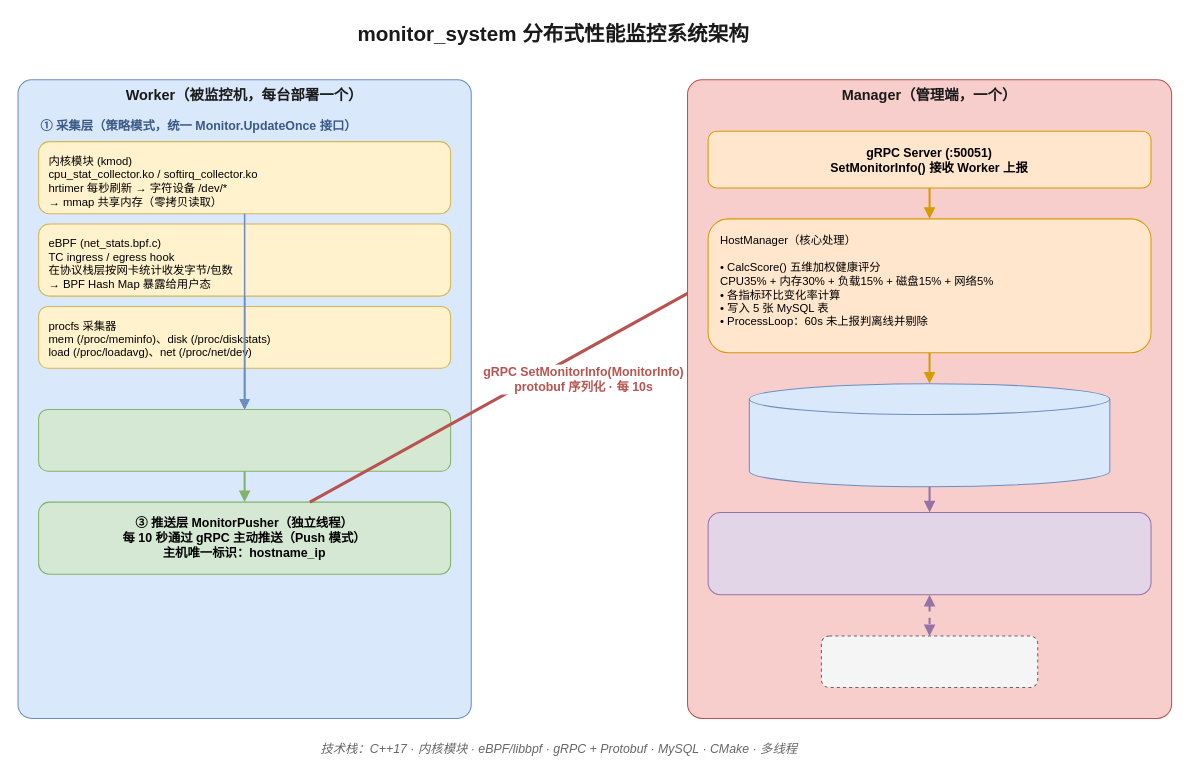
Some shapes in this 1190 by 777 pixel diagram are drawn without their labels. Each missing label, with the centre of its shape:
"MySQL monitor_db server_performance（主表） + 网络 / 磁盘 / 内存 / 软中断 明细表" belongs at [929,435].
"QueryService 9 个 gRPC 查询接口 历史数据(分页) · 趋势 · 异常检测 评分排名（支撑“选最优服务器”调度决策）" belongs at [929,553].
"② 聚合层 MetricCollector.CollectAll() 驱动所有采集器 → 组装成 MonitorInfo (protobuf)" belongs at [244,439].
"查询客户端 / 调度系统" belongs at [929,661].
